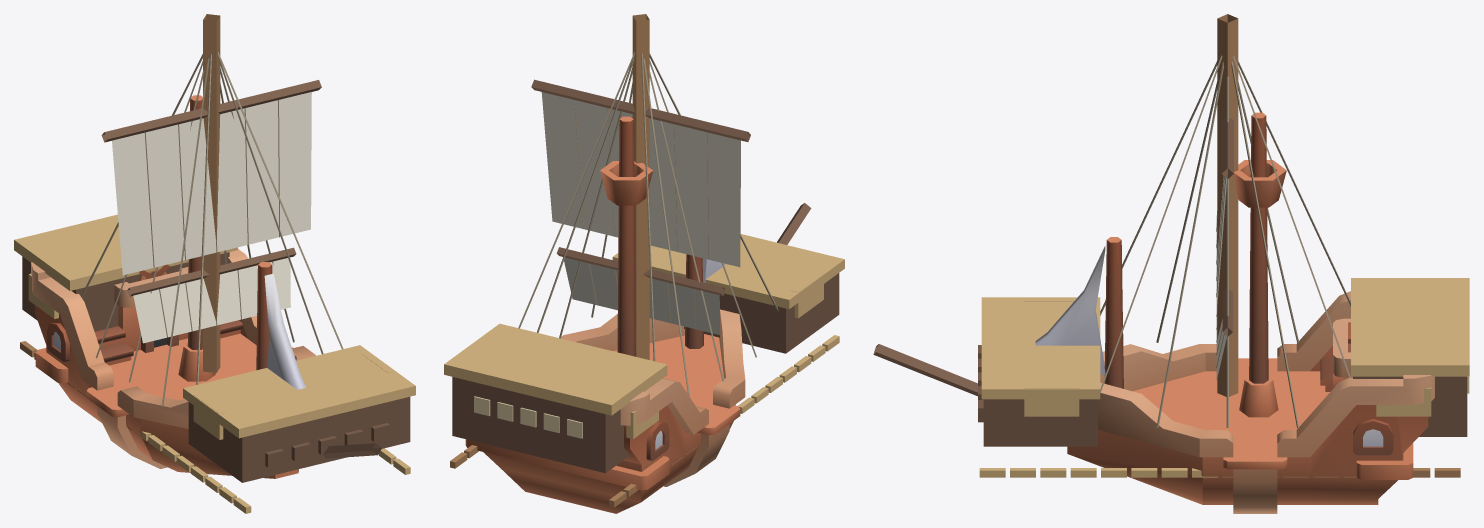
File: cog-custom.glb
3 renders of one model, left to right at view 1: azimuth 30°, elevation 25°; view 2: azimuth 150°, elevation 25°; view 3: azimuth 270°, elevation 25°, orthographic. The views are drawn at different scales.
Parts seen in each view (by area): view 1: cog cloth, ship-small, cog pale, cog dark, cog rope, cog wood; view 2: ship-small, cog cloth, cog pale, cog dark, cog rope, cog wood, cog gold; view 3: ship-small, cog pale, cog dark, cog rope, cog wood, cog cloth.
Part boxes in pixels (left/top/right/bottom): cog cloth: left=112, top=92, right=311, bottom=343; ship-small: left=31, top=95, right=315, bottom=478; cog pale: left=14, top=214, right=415, bottom=513; cog dark: left=22, top=80, right=410, bottom=482; cog rope: left=81, top=52, right=343, bottom=406; cog wood: left=20, top=14, right=220, bottom=430; ship-small: left=465, top=116, right=745, bottom=513; cog cloth: left=541, top=92, right=740, bottom=334; cog pale: left=444, top=234, right=844, bottom=438; cog dark: left=452, top=79, right=839, bottom=473; cog rope: left=518, top=52, right=778, bottom=396; cog wood: left=450, top=14, right=700, bottom=507; cog gold: left=474, top=396, right=582, bottom=438; ship-small: left=1035, top=112, right=1434, bottom=513; cog pale: left=979, top=278, right=1469, bottom=477; cog dark: left=873, top=117, right=1467, bottom=446; cog rope: left=1100, top=55, right=1350, bottom=427; cog wood: left=1217, top=14, right=1460, bottom=477; cog cloth: left=1216, top=169, right=1227, bottom=380.
Bounding box in the file's own units: 6 × 11.8 × 13.56.
7 materials, 1 textured.
